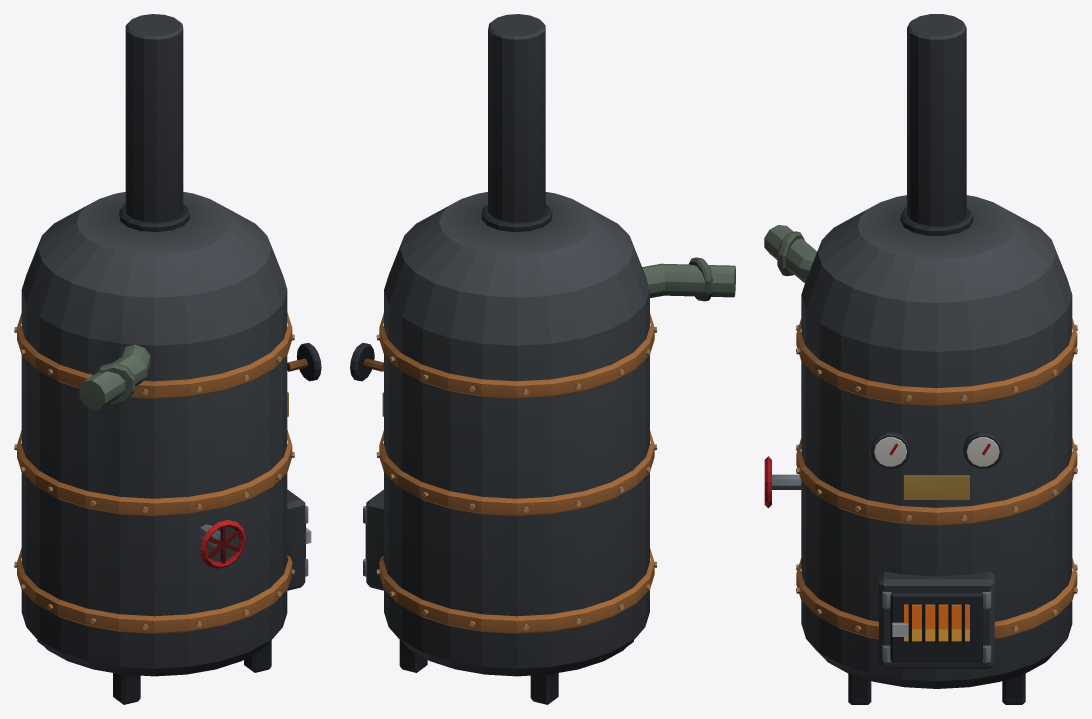
Rendered from boiler.glb.
The picture shows the model from 3 angles, left to right: view 1: azimuth 30°, elevation 25°; view 2: azimuth 150°, elevation 25°; view 3: azimuth 270°, elevation 25°; orthographic projection.
Parts seen in each view (by area): view 1: Body; view 2: Body; view 3: Body, Fire_glow.
Part boxes in pixels (x1=…): Body: x1=14, y1=14, x2=321, y2=704; Body: x1=350, y1=14, x2=735, y2=704; Body: x1=764, y1=14, x2=1077, y2=704; Fire_glow: x1=904, y1=604, x2=969, y2=641.
Size of the model in its own units: 2.02 by 4.3 by 1.9.
